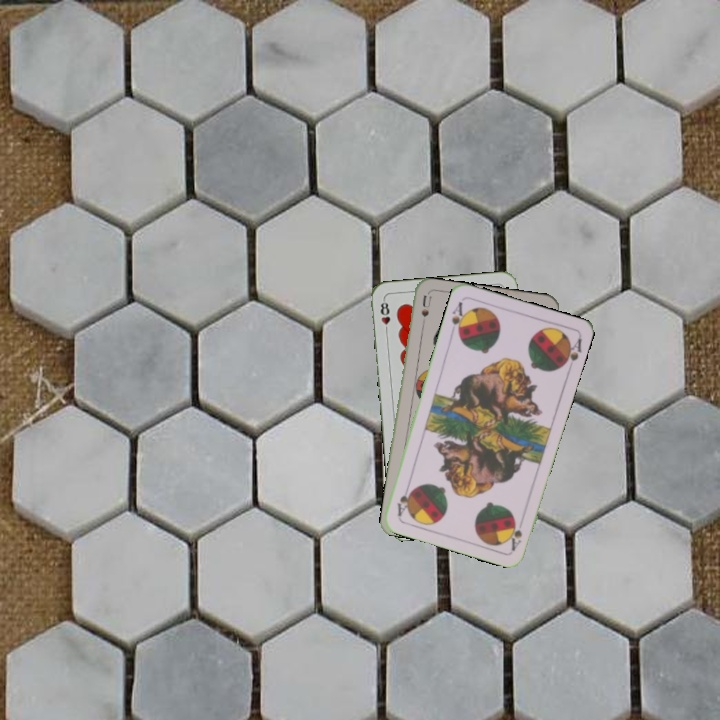H8: (377, 296, 393, 337)
SA: (447, 297, 469, 339), (505, 513, 527, 553)
SU: (417, 292, 434, 333)
